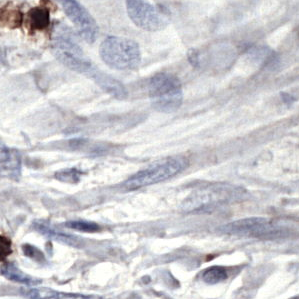Lymphocyte: (24, 6, 51, 34)
